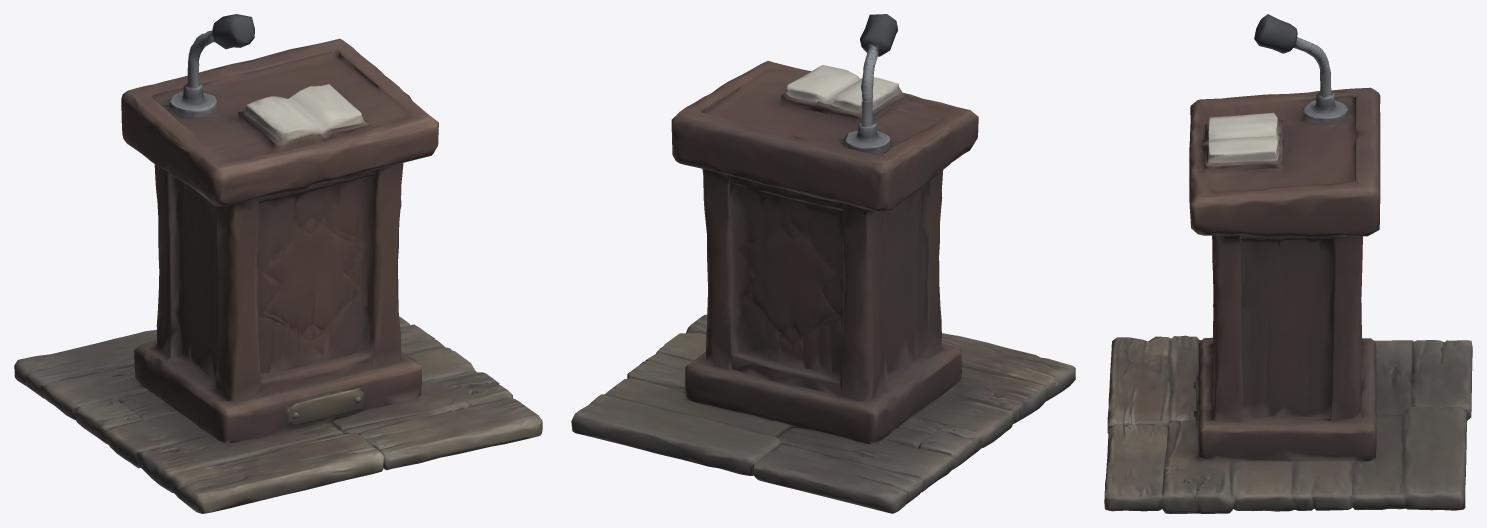
Rendered from university_lectern.glb.
The picture shows the model from 3 angles, left to right: view 1: azimuth 30°, elevation 25°; view 2: azimuth 150°, elevation 25°; view 3: azimuth 270°, elevation 25°; orthographic projection. The views are drawn at different scales.
Parts seen in each view (by area): view 1: tripo_node_55631860-465a-4034-9916-be6ec4e2d954; view 2: tripo_node_55631860-465a-4034-9916-be6ec4e2d954; view 3: tripo_node_55631860-465a-4034-9916-be6ec4e2d954.
Part boxes in pixels (x1,y1,x2,y2): tripo_node_55631860-465a-4034-9916-be6ec4e2d954: (14, 14, 542, 513); tripo_node_55631860-465a-4034-9916-be6ec4e2d954: (571, 14, 1075, 513); tripo_node_55631860-465a-4034-9916-be6ec4e2d954: (1104, 14, 1472, 513).
Size of the model in its own units: 0.8724 by 1 by 0.8446.
Materials: 1 (1 with a texture image).
